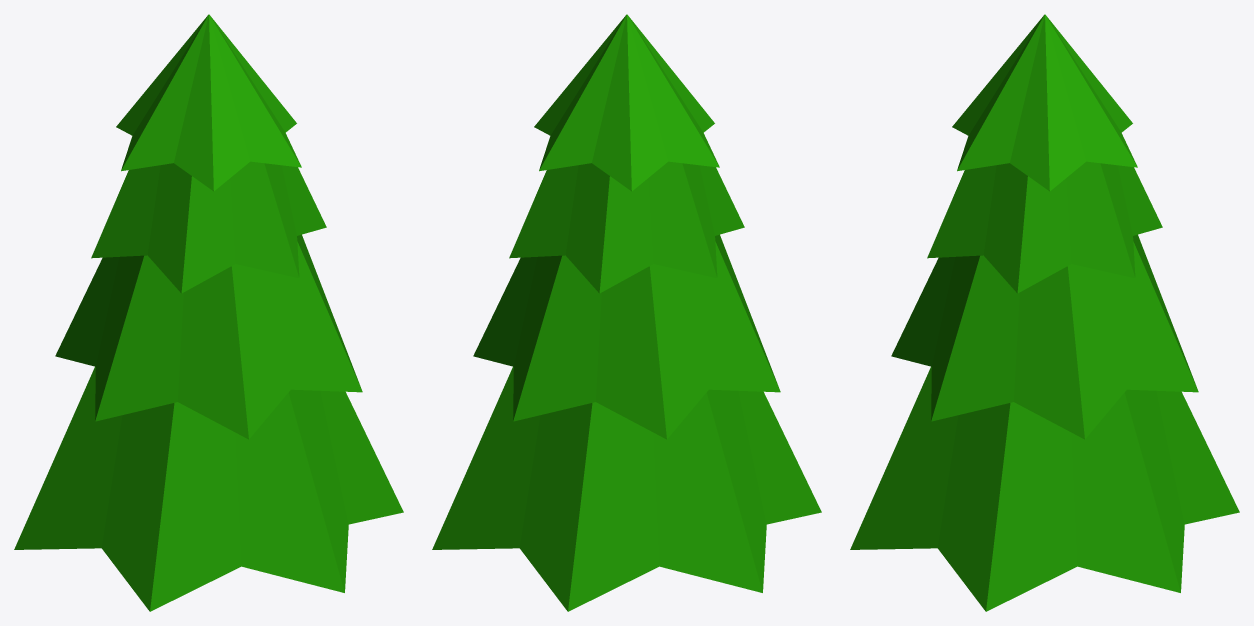
Rendered from tree_leaf_D.fbx.
The picture shows the model from 3 angles, left to right: view 1: azimuth 30°, elevation 25°; view 2: azimuth 150°, elevation 25°; view 3: azimuth 270°, elevation 25°; orthographic projection.
Visible parts, largest first — view 1: tree_leaf_D; view 2: tree_leaf_D; view 3: tree_leaf_D.
Boxes of the visible parts, left/top/right/bottom form: tree_leaf_D: left=14, top=14, right=403, bottom=611; tree_leaf_D: left=432, top=14, right=821, bottom=611; tree_leaf_D: left=850, top=14, right=1239, bottom=611.
Bounding box in the file's own units: 37.87 × 56.56 × 38.64.
